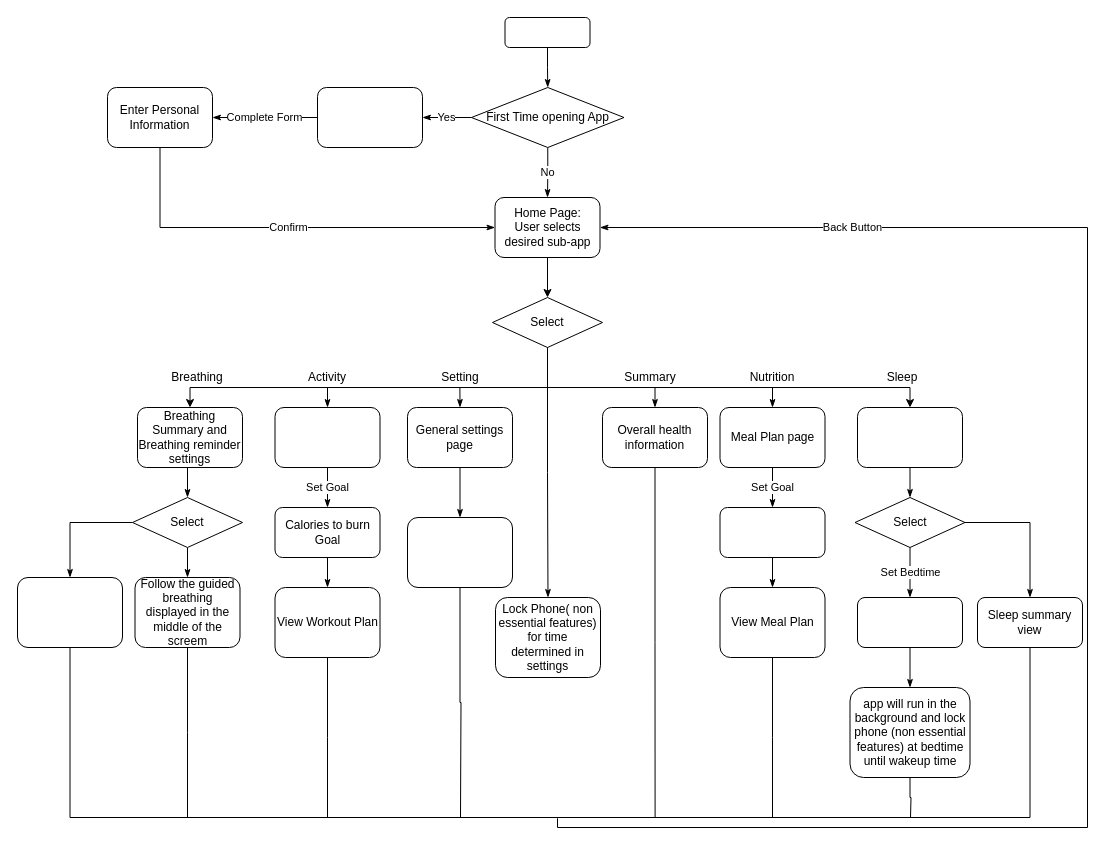
This 1113x853 diagram has some shape labels left out. The shapes that lost their labels are listed below. From the top down, each one's centre as x and y in pixels, then its label:
At (x=547, y=32): "Open App".
At (x=369, y=117): "Information Page".
At (x=327, y=437): "Activity Selection Page and training goals settings".
At (x=909, y=437): "Sleep Quality and alarm".
At (x=459, y=552): "Adjust general settings".
At (x=772, y=532): "Diet Calories Goal".
At (x=69, y=612): "Toggle ON/OFF guided breathing reminder or Add a new Reminder".
At (x=909, y=622): "Select your desired bedtime".
